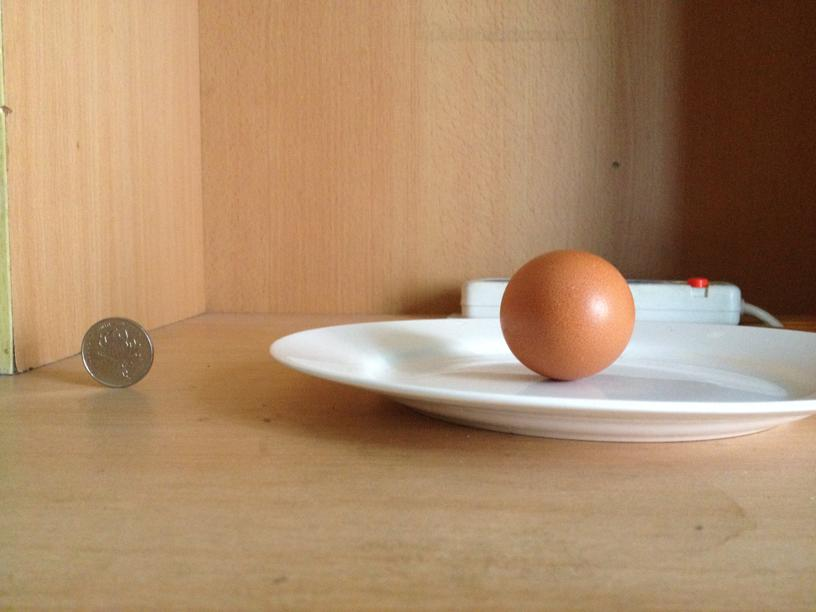coin: (80, 316, 153, 386)
egg: (500, 250, 636, 382)
